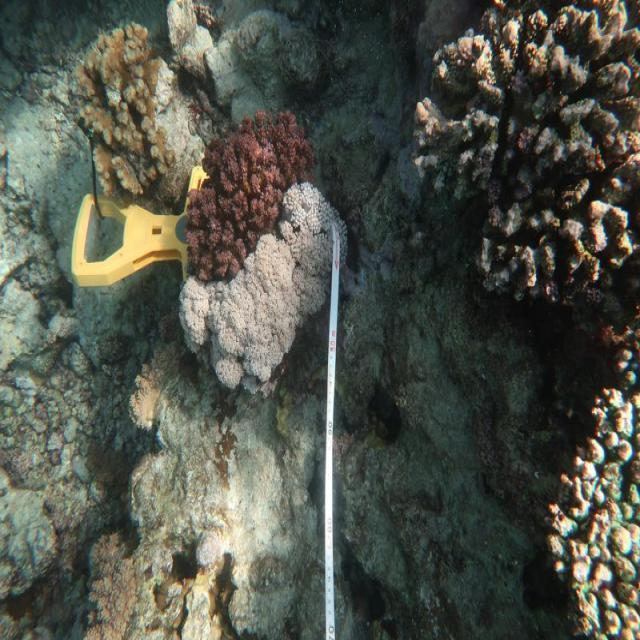Bleached Coral: (181, 250, 340, 396), (281, 185, 351, 266)
Healthy Coral: (70, 22, 183, 202), (186, 109, 296, 245)
